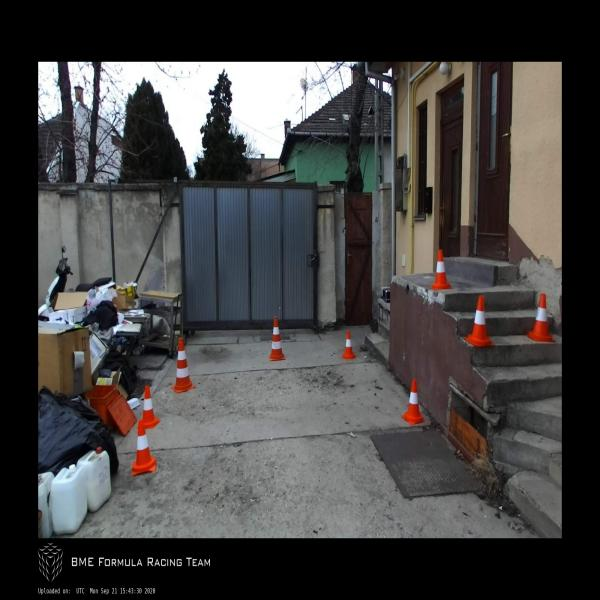large_orange_cone: (170, 338, 194, 393), (269, 317, 285, 360)
orange_cone: (463, 295, 494, 346), (131, 420, 156, 475), (526, 294, 554, 341), (400, 378, 426, 424), (137, 386, 160, 429), (431, 249, 452, 290), (341, 331, 356, 358)
